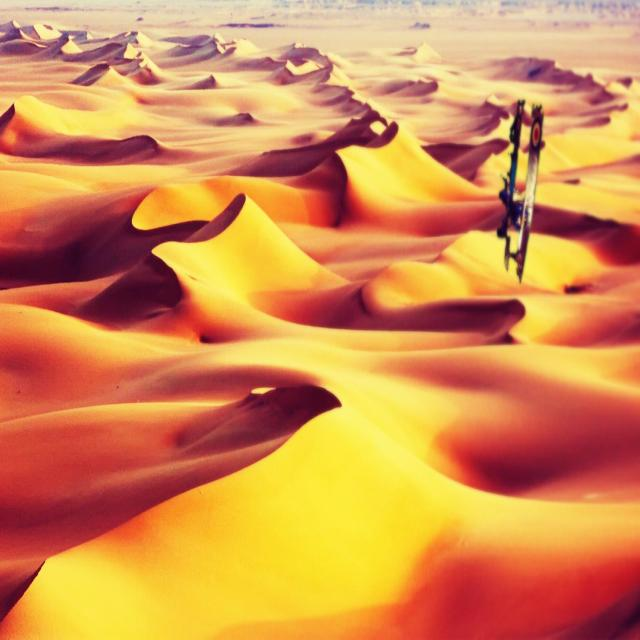airplane: (496, 98, 546, 284)
